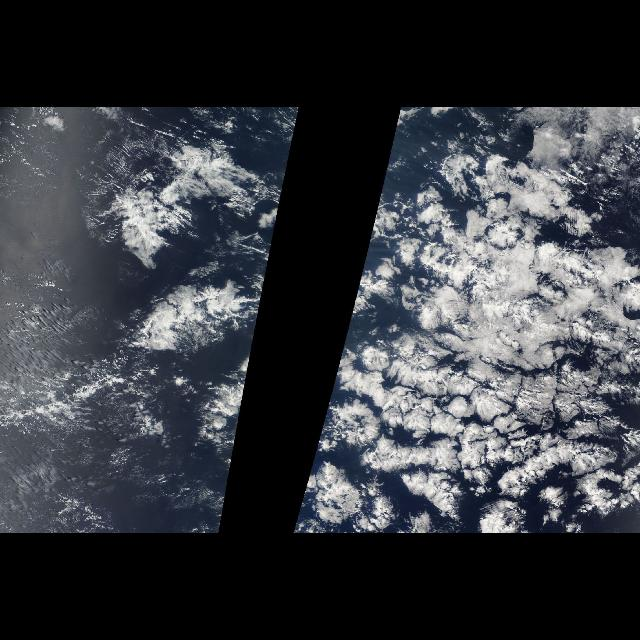Flower: (326, 112, 640, 526)
Sugar: (2, 128, 96, 366)
